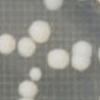white: (28, 20, 52, 44), (47, 48, 70, 70), (70, 40, 94, 57), (17, 37, 36, 58), (70, 56, 92, 73), (0, 33, 16, 56), (18, 80, 39, 97), (43, 0, 65, 11), (28, 66, 43, 82), (96, 46, 100, 64), (93, 0, 100, 9), (18, 97, 37, 100)
